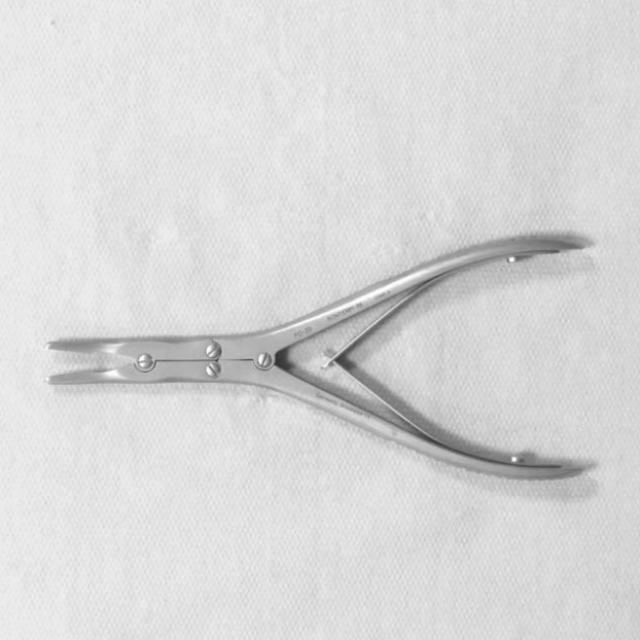gubia: (47, 232, 600, 483)
